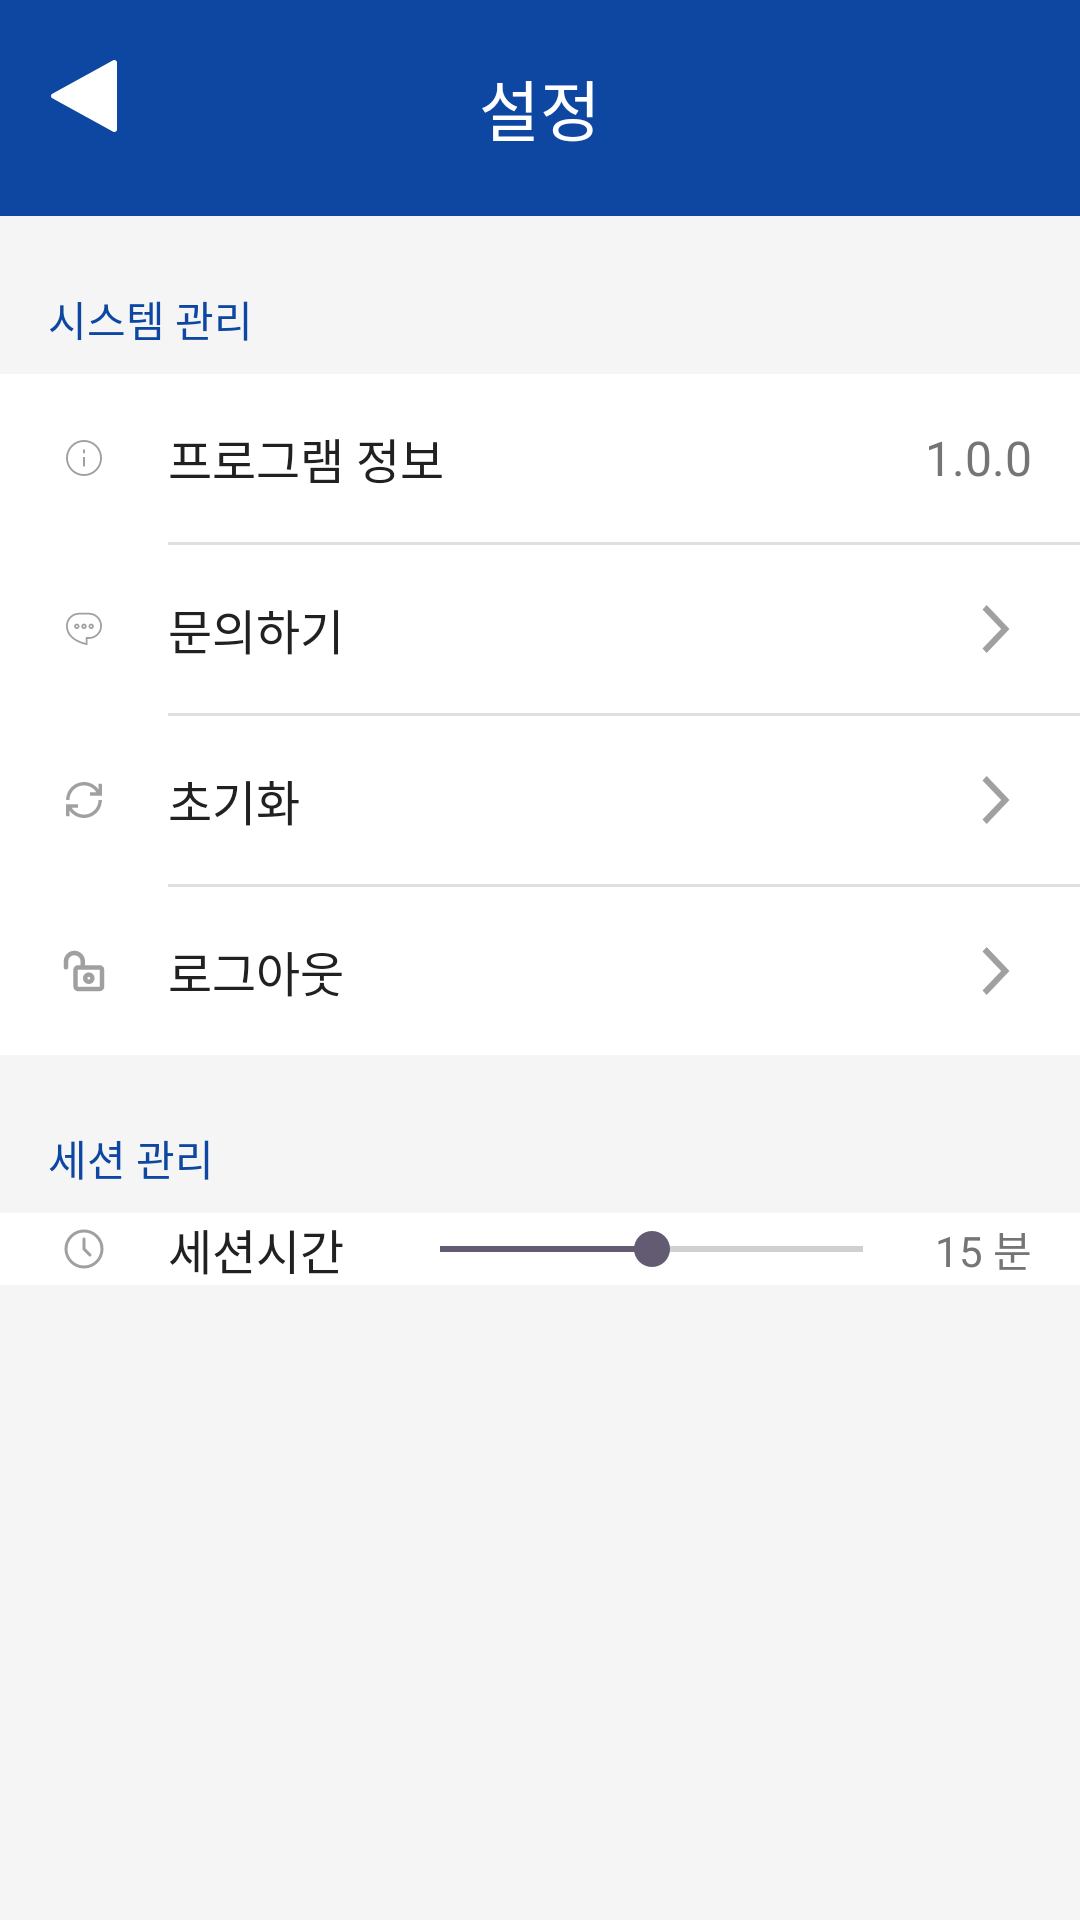

Where icons sit on this 1080px x 1920px app screen, as [x1, y1, x2, y2]:
arrow right: [982, 605, 1009, 653], [982, 776, 1009, 824], [982, 947, 1009, 995]
settings clock: [64, 1229, 104, 1269]
settings communication: [66, 613, 102, 645]
settings information: [66, 440, 102, 476]
settings refresh: [66, 782, 102, 818]
settings unlock: [64, 951, 104, 991]
